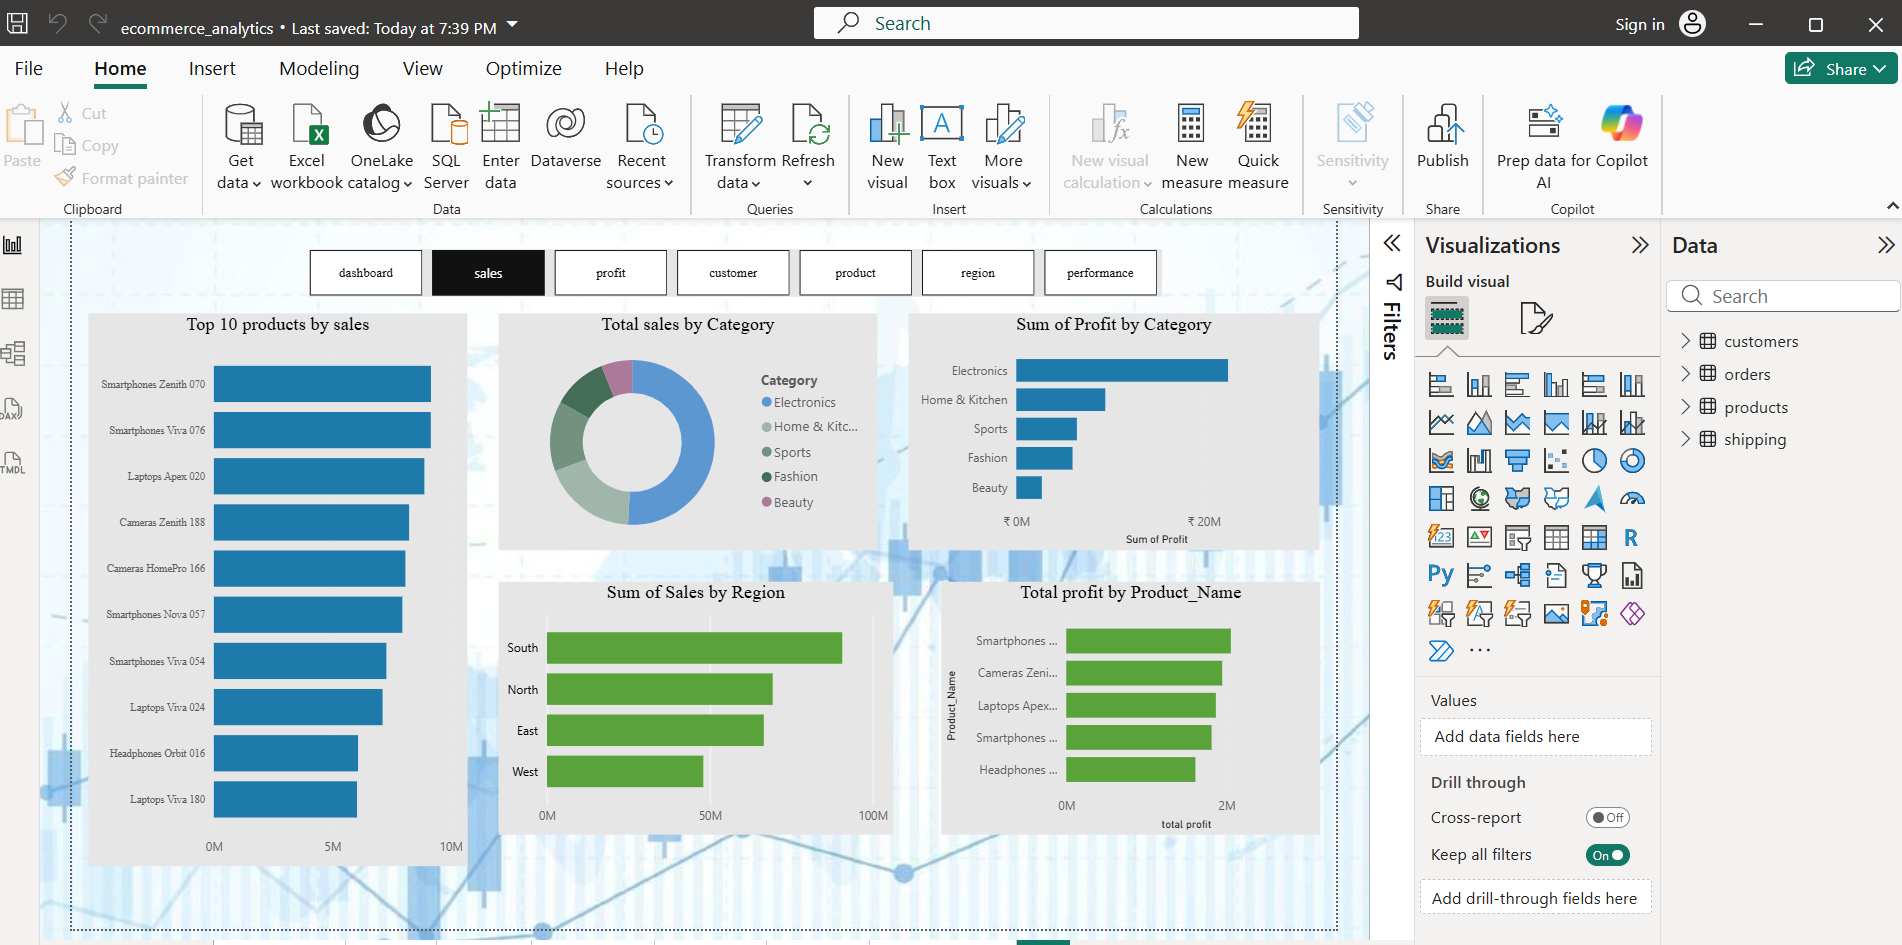

This screenshot's page, from the dashboard's own definition file:
{"tool":"powerbi","page":{"name":"sales","canvas":[1280,720],"ordinal":1},"visuals":[{"type":"clusteredBarChart","fields":{"Category":[" customers.Region"],"Y":["Sum( orders.Sales)"]},"box":[432,368,400,256],"z":0},{"type":"donutChart","title":"Total sales by Category","fields":{"Category":[" products.Category"],"Y":[" orders.total sales"]},"box":[432,96,384,240],"z":1000},{"type":"clusteredBarChart","fields":{"Category":[" products.Category"],"Y":["Sum( orders.Profit)"]},"box":[848,96,416,240],"z":2000},{"type":"clusteredBarChart","title":"Top 10 products by sales","fields":{"Y":[" orders.total sales"],"Category":[" products.Product_Name"]},"box":[16,96,384,560],"z":3000},{"type":"clusteredBarChart","title":"Total profit by Product_Name","fields":{"Category":[" products.Product_Name"],"Y":[" orders.total profit"]},"box":[880,368,384,256],"z":4000},{"type":"pageNavigator","box":[240,32,864,48],"z":5000}]}

Visuals, with their boxes on the page's 1280x720 design canvas (x1, y1, x2, y2). These are canvas units, not pixel positions in the 1902x945 screenshot, which may show the page scaled, cropped or inside an application window:
clusteredBarChart -  customers.Region x Sum( orders.Sales): box(432, 368, 832, 624)
"Total sales by Category" donutChart: box(432, 96, 816, 336)
clusteredBarChart -  products.Category x Sum( orders.Profit): box(848, 96, 1264, 336)
"Top 10 products by sales" clusteredBarChart: box(16, 96, 400, 656)
"Total profit by Product_Name" clusteredBarChart: box(880, 368, 1264, 624)
pageNavigator: box(240, 32, 1104, 80)
